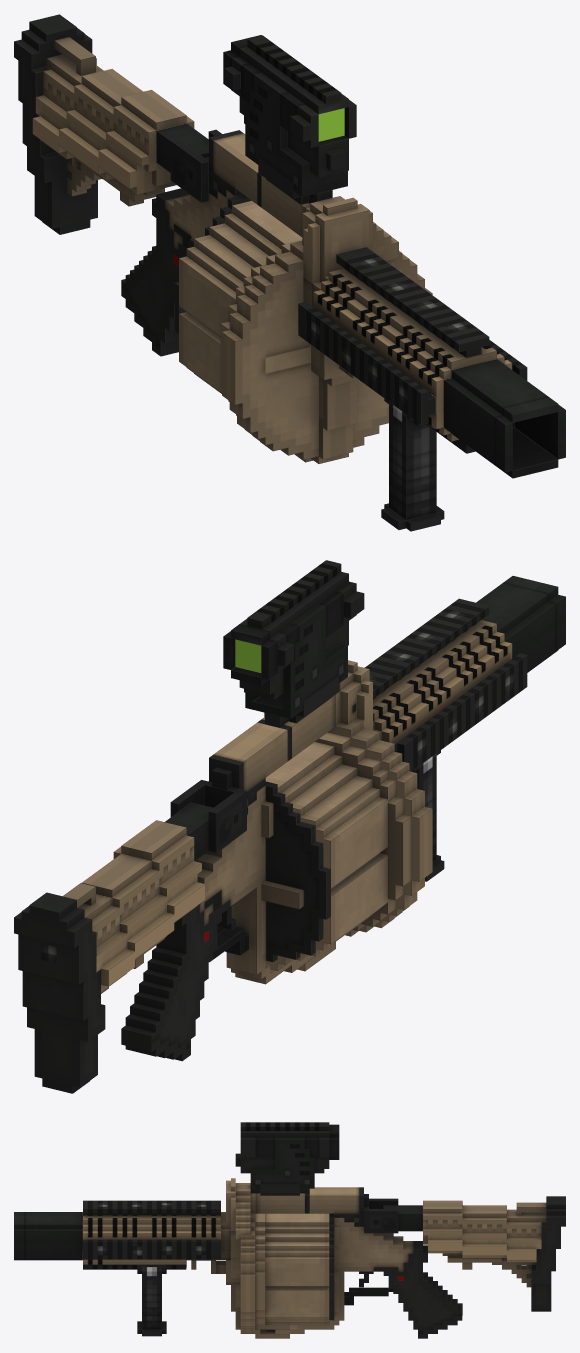
File: RD_MGLMK1.glb
3 renders of one model, top to bottom at view 1: azimuth 30°, elevation 25°; view 2: azimuth 150°, elevation 25°; view 3: azimuth 270°, elevation 25°, orthographic. The views are drawn at different scales.
Parts seen in each view (by area): view 1: MGLMK1, MGLMK_BODY_P2, MGLMK1_SCOPE, MGLMK1_CLIP, GRIP1; view 2: MGLMK_BODY_P2, MGLMK1, MGLMK1_CLIP, MGLMK1_SCOPE, GRIP1; view 3: MGLMK_BODY_P2, MGLMK1, MGLMK1_CLIP, MGLMK1_SCOPE, GRIP1.
Part boxes in pixels (bbox=[...]): MGLMK1: bbox=[222, 172, 565, 478]; MGLMK_BODY_P2: bbox=[14, 14, 258, 356]; MGLMK1_SCOPE: bbox=[223, 35, 356, 204]; MGLMK1_CLIP: bbox=[179, 200, 302, 415]; GRIP1: bbox=[381, 398, 444, 531]; MGLMK_BODY_P2: bbox=[14, 722, 330, 1093]; MGLMK1: bbox=[257, 576, 565, 971]; MGLMK1_CLIP: bbox=[208, 732, 411, 970]; MGLMK1_SCOPE: bbox=[223, 560, 364, 723]; GRIP1: bbox=[412, 750, 444, 881]; MGLMK_BODY_P2: bbox=[275, 1187, 565, 1338]; MGLMK1: bbox=[14, 1178, 309, 1338]; MGLMK1_CLIP: bbox=[255, 1213, 329, 1329]; MGLMK1_SCOPE: bbox=[235, 1122, 339, 1195]; GRIP1: bbox=[137, 1264, 166, 1336].
Bounding box in the file's own units: 0.2558 × 0.4625 × 1.1.
Materials: 4 (4 with a texture image).
